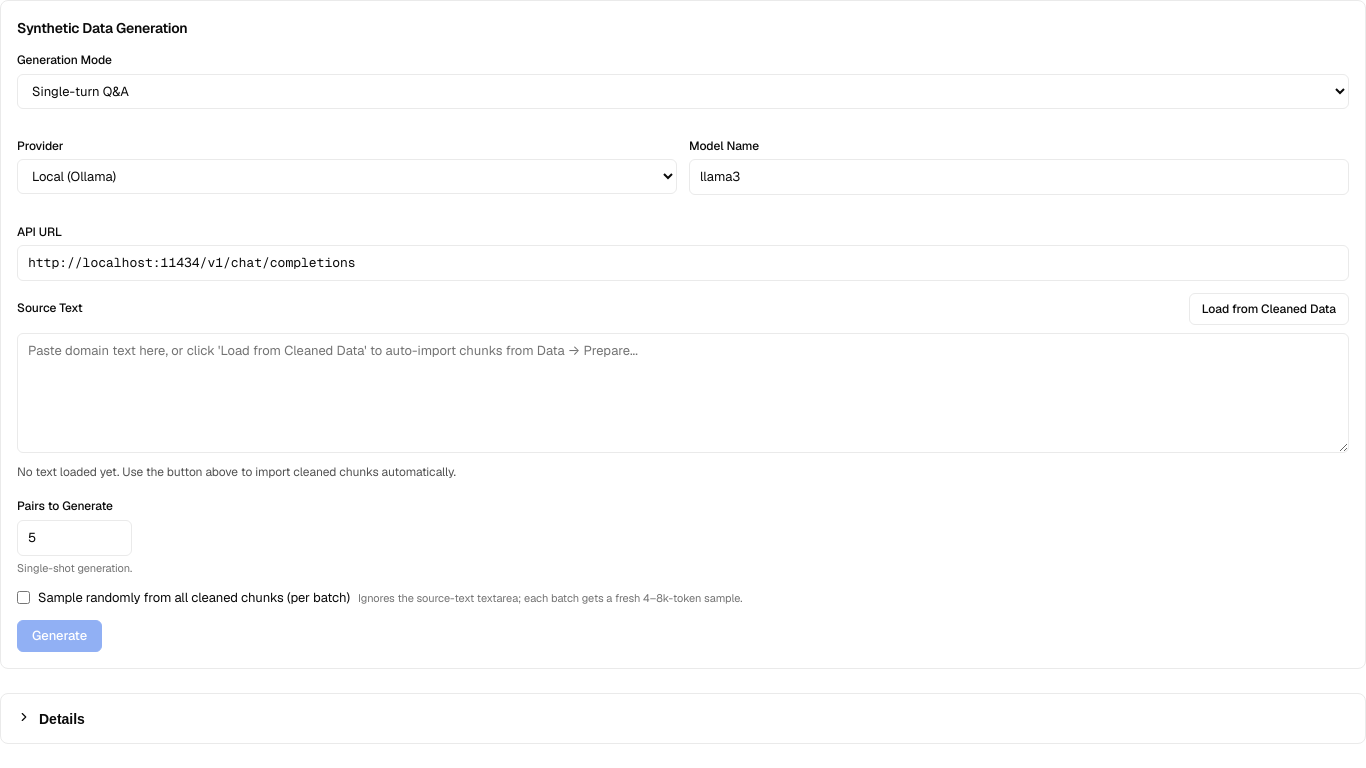
Test case: SyntheticPanel — QA + Conversation parity (USER-SUCCESS Epic 2c) › saves a pasted cloud key on the project and clears the field
Select "Anthropic" in the dropdown below "Provider" at (347,177), box [17,159,677,194]
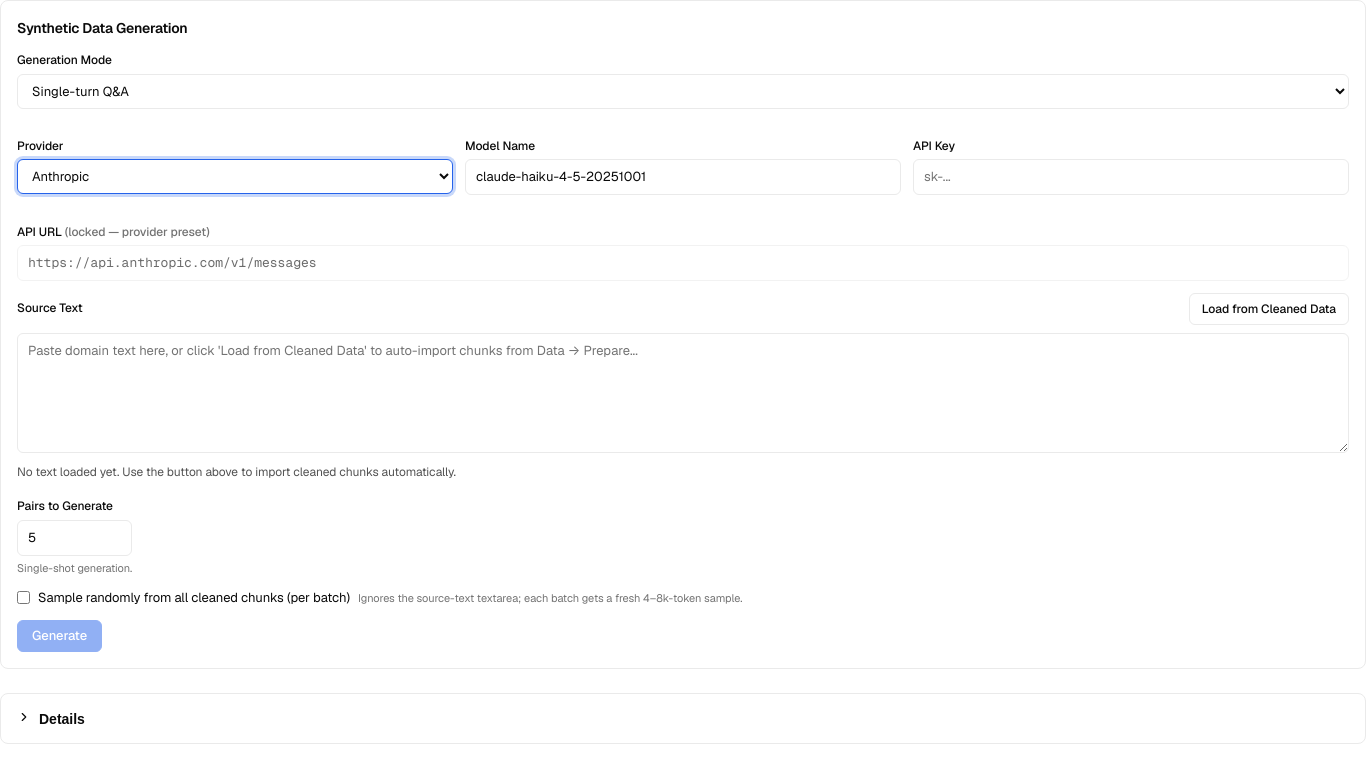
Type "sk-ant-test" into the password field with test id "synth-legacy-api-key".
click(1131, 177); type("sk-ant-test")  # box [913,159,1349,195]
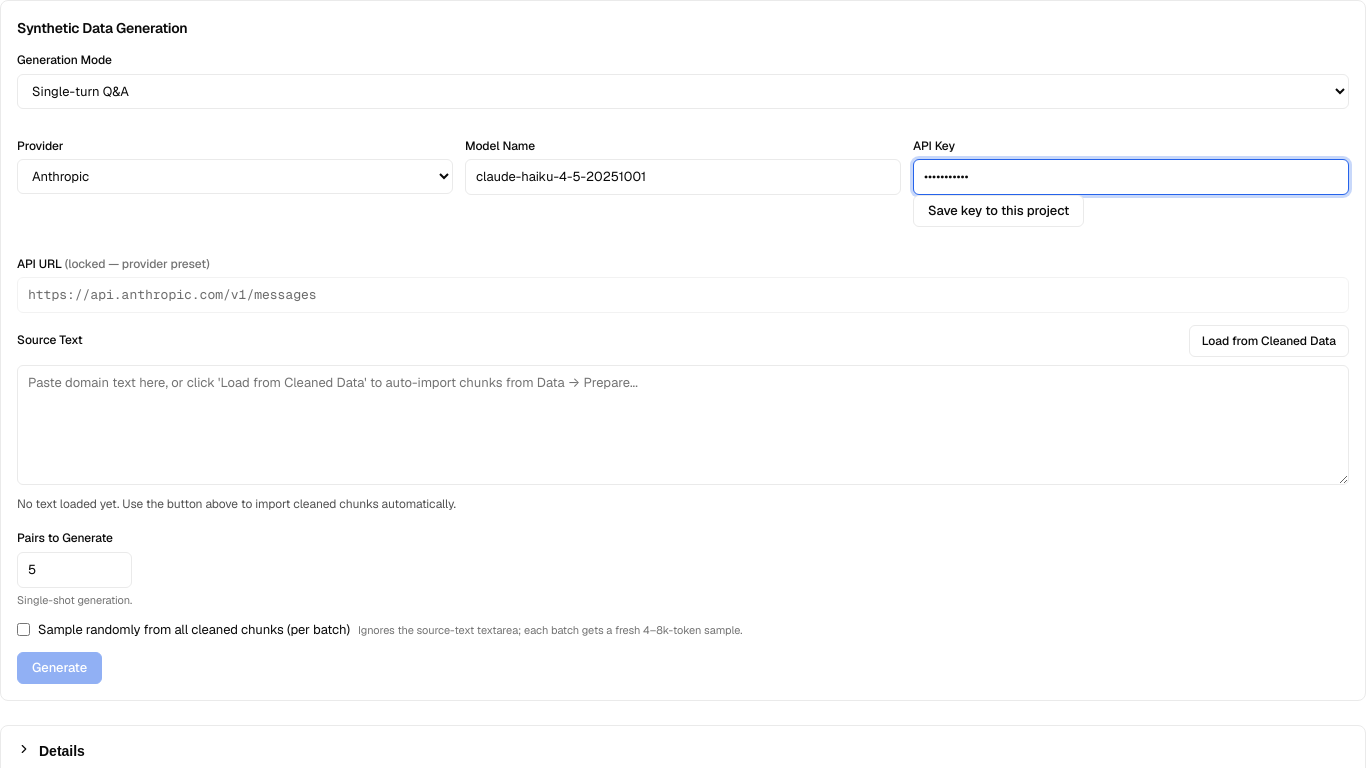
Click the button with test id "synth-save-api-key".
click(999, 211)  # box [913,195,1084,227]
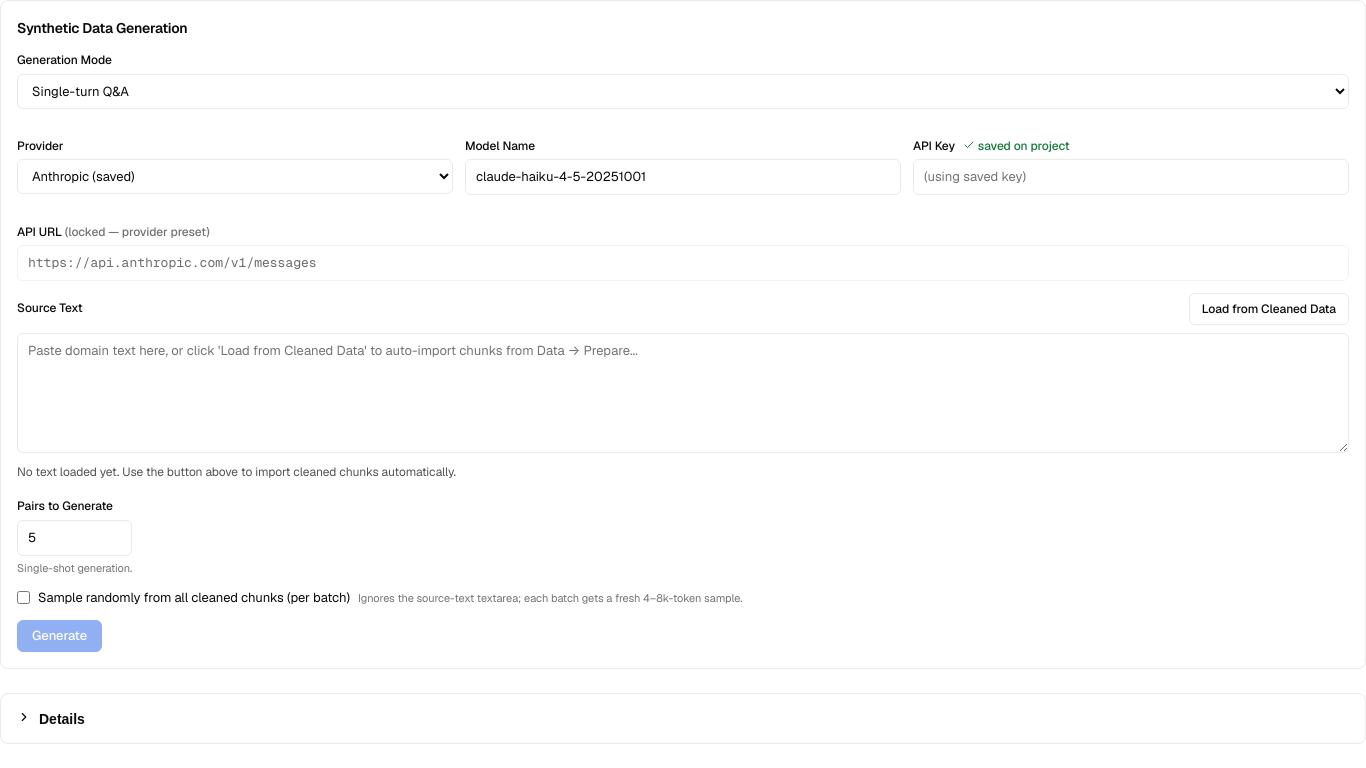
Expected: the element with test id "synth-legacy-saved-key-badge" is shown, [963,138,1070,154]
Expected: the password field with test id "synth-legacy-api-key" is empty, [913,159,1349,195]
